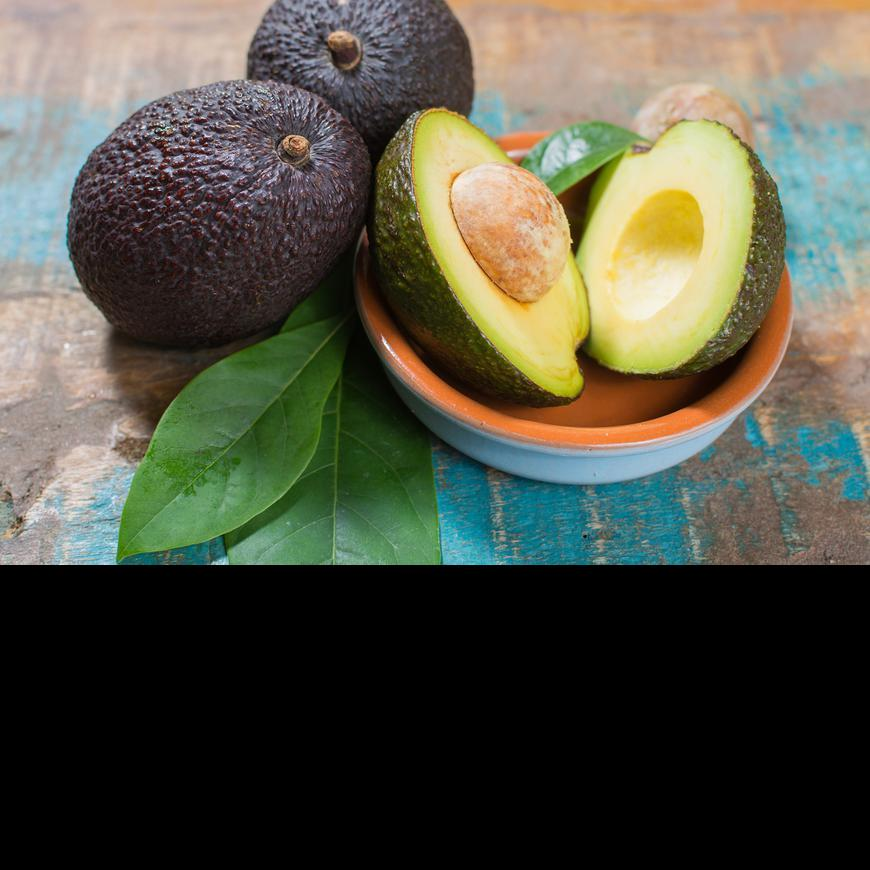ripe: (67, 79, 369, 348), (244, 1, 474, 163)
